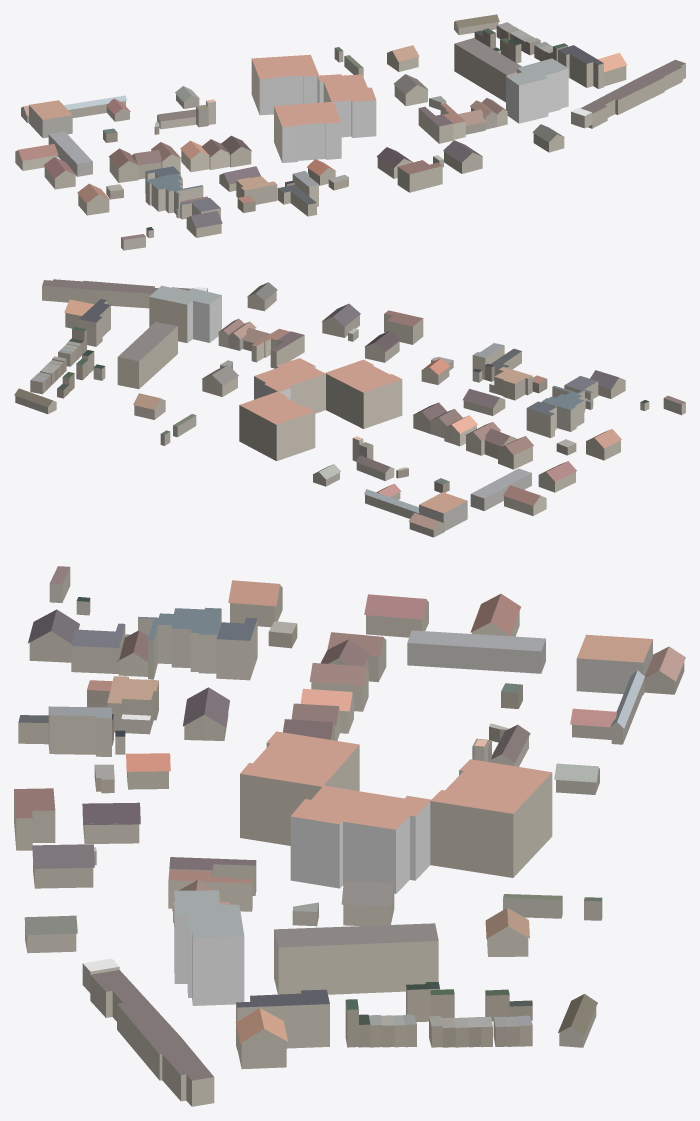
The picture shows the model from 3 angles, top to bottom: view 1: azimuth 30°, elevation 25°; view 2: azimuth 150°, elevation 25°; view 3: azimuth 270°, elevation 25°; orthographic projection. The views are drawn at different scales.
Parts seen in each view (by area): view 1: tuile; view 2: tuile; view 3: tuile.
Part boxes in pixels (<box>): tuile: <box>15,14,685,250</box>; tuile: <box>14,279,685,537</box>; tuile: <box>14,566,685,1106</box>.
Size of the model in its own units: 277 by 22.01 by 151.
